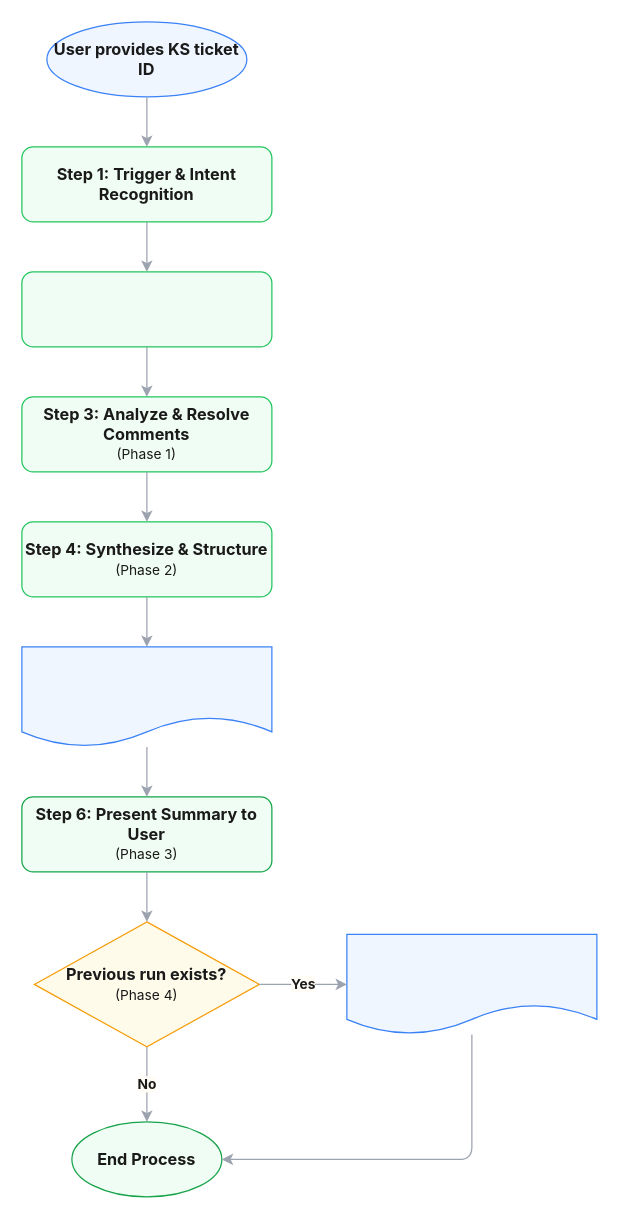
This 619x1219 diagram has some shape labels left out. Here are the shapes that lost their labels. From the top down, the centre of each, then its label:
At pixel 146 309: "Step 2: Fetch KS Ticket Data (Phase 1)".
At pixel 146 696: "Step 5: Auto-Save Requirements File (<KS-ID>_requirements.md)".
At pixel 471 983: "Step 7: Generate Comparison Doc (compare_run_vs_run.md)".
